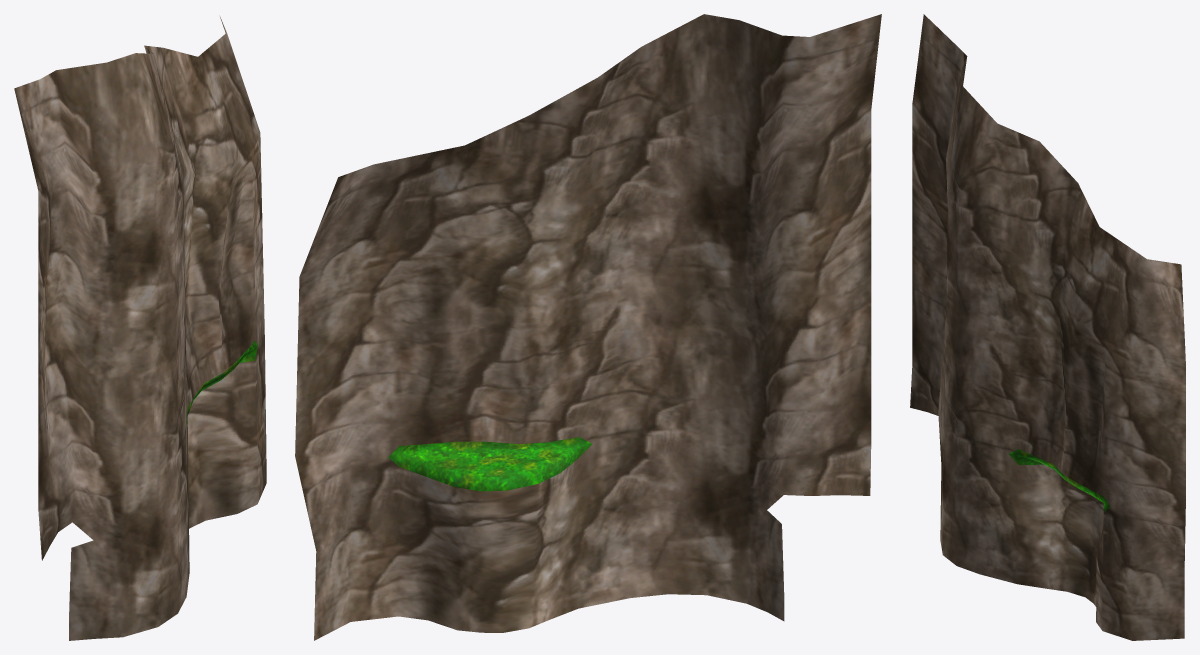
Rendered from EKH_ENTRANCE_PS_EN_WALL_CHUNK464__GX.fbx.
3 views of the same model, side by side, from view 1: azimuth 30°, elevation 25°; view 2: azimuth 150°, elevation 25°; view 3: azimuth 270°, elevation 25° (orthographic). The views are drawn at different scales.
Visible parts, largest first — view 1: EKH_ENTRANCE_PS_EN_WALL_CHUNK464__GX; view 2: EKH_ENTRANCE_PS_EN_WALL_CHUNK464__GX; view 3: EKH_ENTRANCE_PS_EN_WALL_CHUNK464__GX.
Part boxes in pixels (<box>): EKH_ENTRANCE_PS_EN_WALL_CHUNK464__GX: <box>14,17,266,640</box>; EKH_ENTRANCE_PS_EN_WALL_CHUNK464__GX: <box>295,14,881,640</box>; EKH_ENTRANCE_PS_EN_WALL_CHUNK464__GX: <box>910,14,1185,640</box>.
Bounding box in the file's own units: 111397 × 155476 × 81138.
2 materials, 2 textured.
